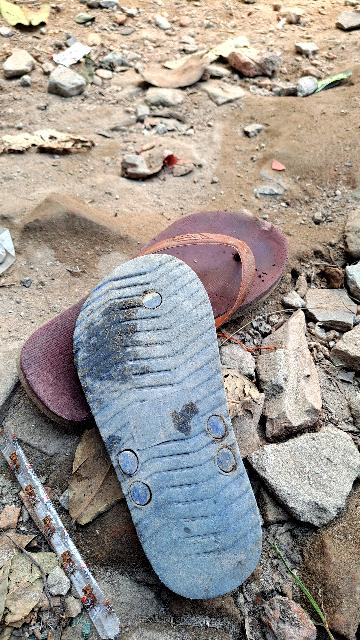sandal: (0, 152, 325, 439), (59, 229, 279, 604)
